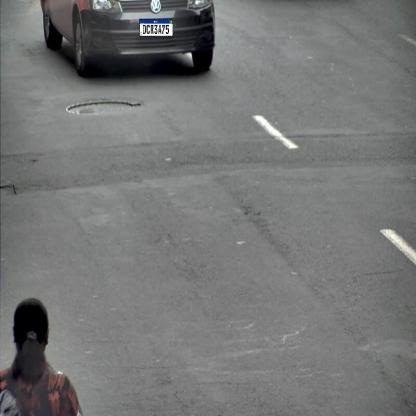PlacaM: (140, 18, 174, 36)
